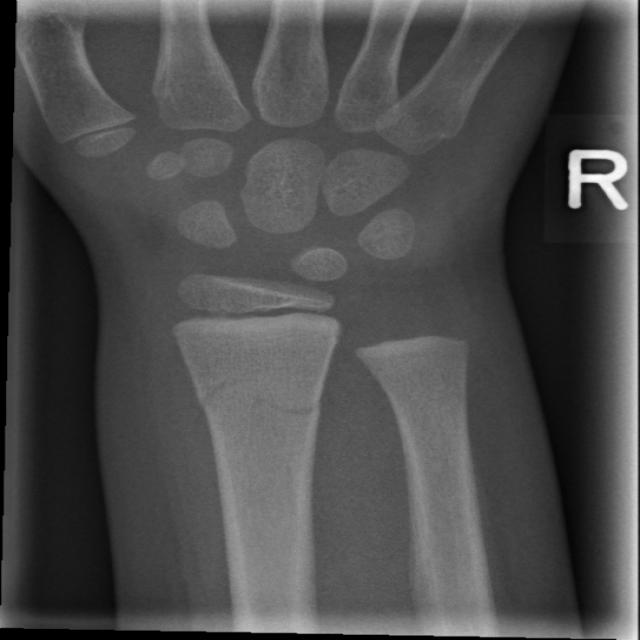radius fracture: (154, 346, 347, 444)
